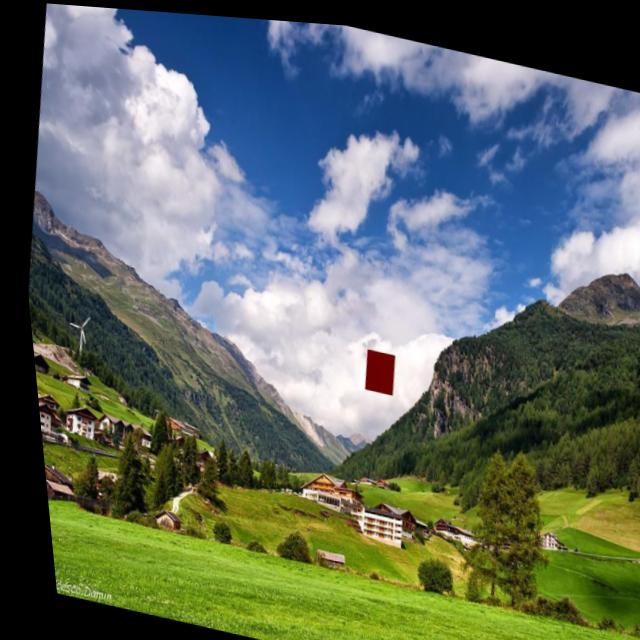RedSquare: (348, 339, 396, 399)
